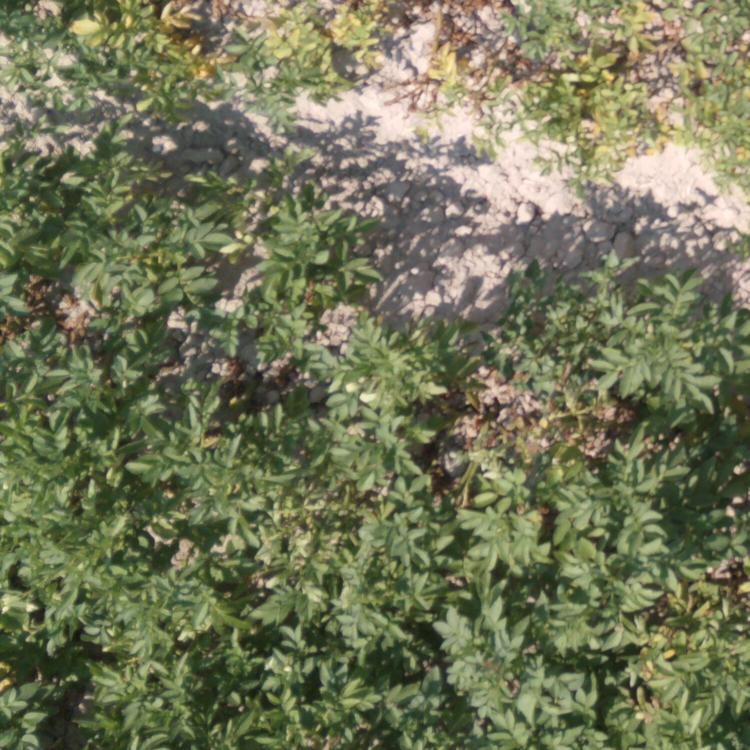healthy: (4, 440, 236, 746), (486, 460, 746, 733), (240, 503, 470, 744), (3, 127, 181, 435), (190, 171, 378, 425), (614, 250, 741, 452), (245, 427, 463, 503), (480, 273, 603, 372), (397, 312, 465, 411)
stressed: (502, 1, 641, 169), (5, 1, 214, 99), (231, 3, 406, 91), (655, 15, 750, 177), (479, 381, 596, 448), (417, 1, 482, 117)
